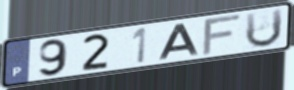1: (131, 26, 149, 65)
2: (81, 33, 111, 72)
9: (37, 37, 71, 78)
A: (157, 22, 202, 61)
F: (200, 12, 244, 58)
U: (243, 6, 285, 50)
